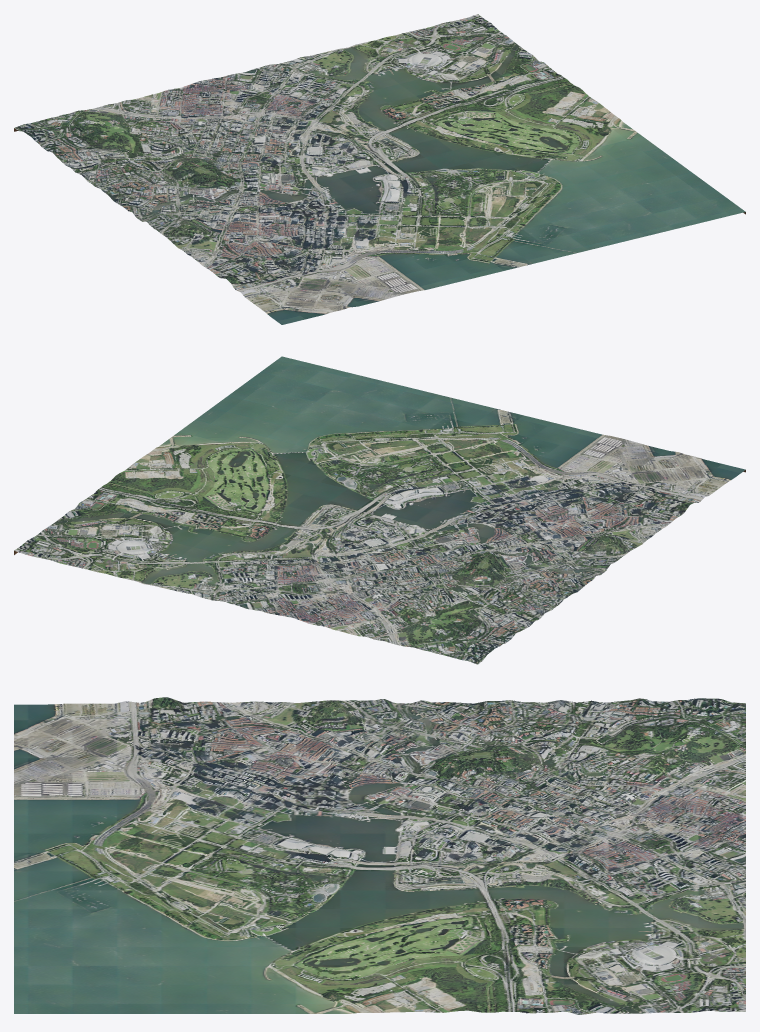
File: 18_singapore_gp.glb
The picture shows the model from 3 angles, top to bottom: view 1: azimuth 30°, elevation 25°; view 2: azimuth 150°, elevation 25°; view 3: azimuth 270°, elevation 25°; orthographic projection. The views are drawn at different scales.
Parts seen in each view (by area): view 1: tinMesh; view 2: tinMesh; view 3: tinMesh.
Part boxes in pixels (bbox=[...]): tinMesh: bbox=[14, 14, 745, 324]; tinMesh: bbox=[14, 356, 745, 664]; tinMesh: bbox=[14, 697, 745, 1014].
Bounding box in the file's own units: 5007 × 124 × 5007.
2 materials, 2 textured.
